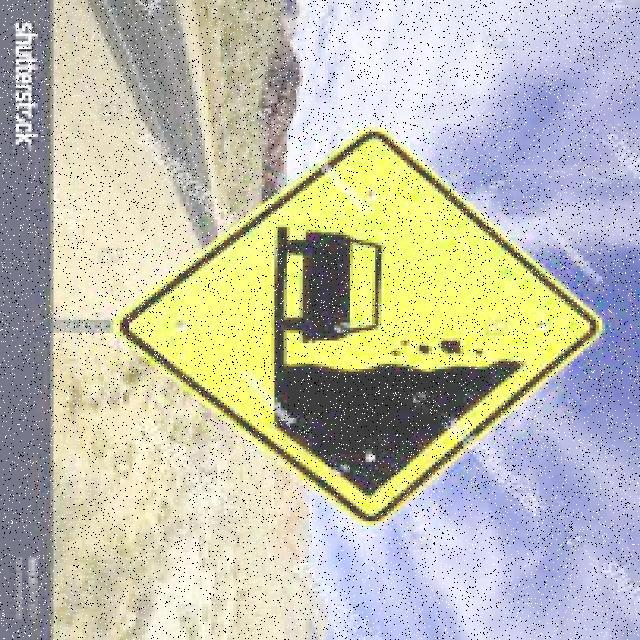Traffic sign: (112, 124, 606, 528)
